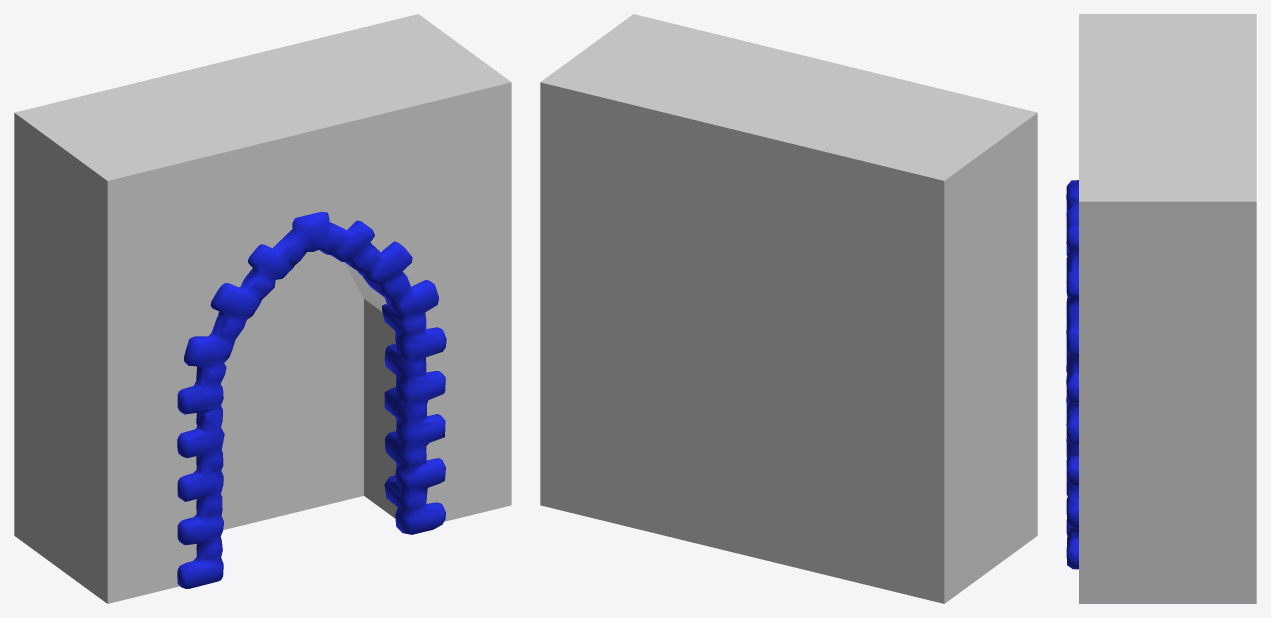
The model's file is Medieval WallArc.fbx.
3 views of the same model, side by side, from view 1: azimuth 30°, elevation 25°; view 2: azimuth 150°, elevation 25°; view 3: azimuth 270°, elevation 25° (orthographic). The views are drawn at different scales.
Parts seen in each view (by area): view 1: WallArc; view 2: WallArc; view 3: WallArc.
Boxes of the visible parts, x1,y1,x2,y2 form: WallArc: (14, 14, 511, 603); WallArc: (540, 14, 1037, 603); WallArc: (1066, 14, 1256, 603).
Size of what is drawn, in the model's own units: 5 by 5.02 by 2.14.
